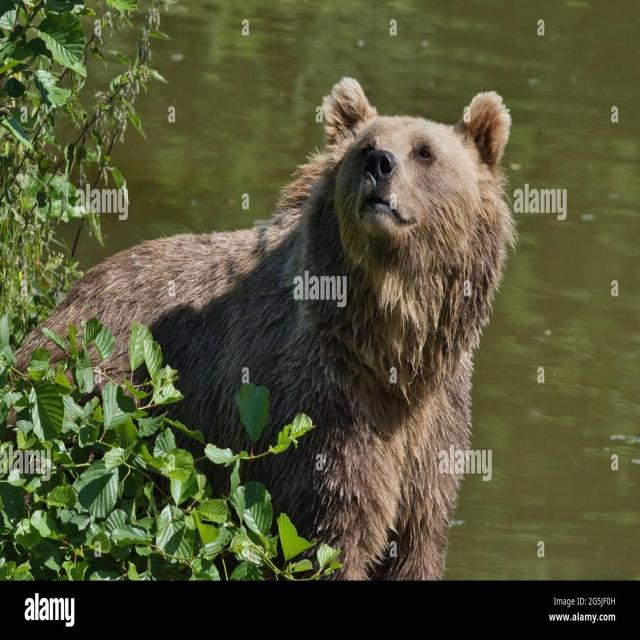Bear: (20, 78, 517, 582)
